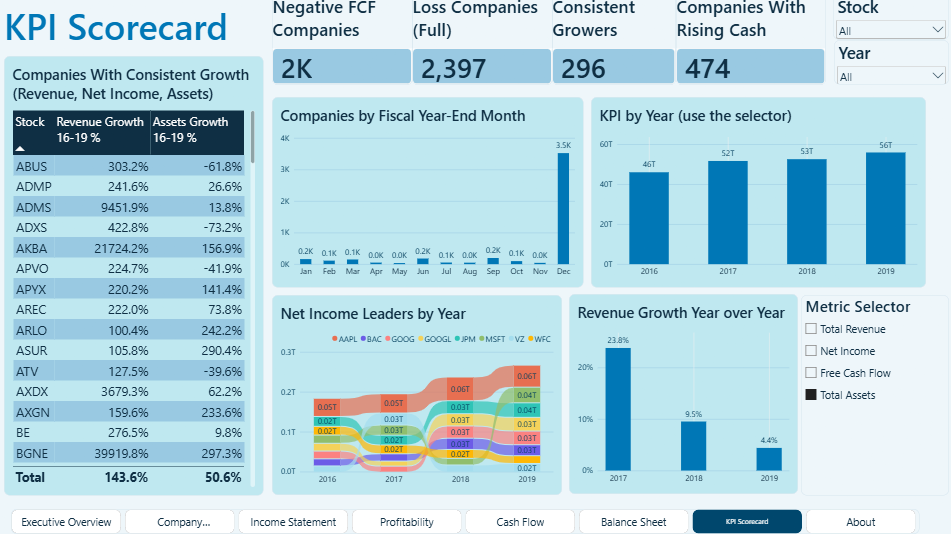

Layout of this report page (visuals, bound fields, positions):
{"tool":"powerbi","page":{"name":"KPI Scorecard","canvas":[1920,1080],"ordinal":6},"visuals":[{"type":"textbox","box":[15.5,13.5,487.7,110.3],"z":0},{"type":"slicer","fields":{"Values":["Dim_Date.Year"]},"box":[1676.1,92.9,230.3,89],"z":1000},{"type":"slicer","fields":{"Values":["Dim_Company.stock"]},"box":[1674.2,0,232.3,91],"z":2000},{"type":"tableEx","title":"Companies With Consistent Growth (Revenue, Net Income, Assets)","fields":{"Values":["Dim_Company.Stock","_Measures.Revenue Growth 16-19 %","_Measures.Assets Growth 16-19 %"]},"box":[15.5,123.9,518.7,878.7],"z":3000},{"type":"cardVisual","title":"Loss Companies (Full)","fields":{"Data":["_Measures.Loss Companies (Full)"]},"box":[832.3,0,280.6,181.9],"z":9000},{"type":"cardVisual","title":"Negative FCF Companies","fields":{"Data":["_Measures.Negative FCF Companies"]},"box":[551.9,0,280.5,181.7],"z":10000},{"type":"cardVisual","title":"Companies With Rising Cash","fields":{"Data":["_Measures.Companies With Rising Cash"]},"box":[1360.6,0,300,181.9],"z":11000},{"type":"cardVisual","title":"Consistent Growers","fields":{"Data":["_Measures.Consistent Growers"]},"box":[1112.9,0,247.7,181.9],"z":12000},{"type":"slicer","fields":{"Values":["Metric Selector.Metric Selector"]},"box":[1610.3,601.9,296.1,400.6],"z":12001},{"type":"clusteredColumnChart","title":"KPI by Year (use the selector)","fields":{"Category":["Dim_Date.Year"],"Y":["_Measures.Total Assets"]},"box":[1190.3,205.2,669.7,381.3],"z":12002},{"type":"clusteredColumnChart","title":"Revenue Growth Year over Year","fields":{"Category":["Dim_Date.Year"],"Y":["_Measures.Revenue YoY %"]},"box":[1145.8,600,457.6,400.1],"z":12003},{"type":"ribbonChart","title":"Net Income Leaders by Year","fields":{"Category":["Dim_Date.Year"],"Series":["Dim_Company.Stock"],"Y":["_Measures.Net Income"]},"box":[551.6,601.9,580.1,400.3],"z":12004},{"type":"clusteredColumnChart","title":"Companies by Fiscal Year-End Month","fields":{"Category":["Dim_Date.Month"],"Y":["_Measures.Company Count"]},"box":[551.6,205.2,623.2,381.3],"z":12005},{"type":"pageNavigator","box":[29,1029.7,1817.4,50.3],"z":12006}]}

Visuals, with their boxes in screenshot pixels (x1, y1, x2, y2), scaled from the page's 1920x1080 canvas onto the 951x534 screenshot:
textbox: (left=8, top=7, right=249, bottom=61)
slicer - Dim_Date.Year: (left=830, top=46, right=944, bottom=90)
slicer - Dim_Company.stock: (left=829, top=0, right=944, bottom=45)
"Companies With Consistent Growth (Revenue, Net Income, Assets)" tableEx: (left=8, top=61, right=265, bottom=496)
"Loss Companies (Full)" cardVisual: (left=412, top=0, right=551, bottom=90)
"Negative FCF Companies" cardVisual: (left=273, top=0, right=412, bottom=90)
"Companies With Rising Cash" cardVisual: (left=674, top=0, right=823, bottom=90)
"Consistent Growers" cardVisual: (left=551, top=0, right=674, bottom=90)
slicer - Metric Selector.Metric Selector: (left=798, top=298, right=944, bottom=496)
"KPI by Year (use the selector)" clusteredColumnChart: (left=590, top=101, right=921, bottom=290)
"Revenue Growth Year over Year" clusteredColumnChart: (left=568, top=297, right=794, bottom=494)
"Net Income Leaders by Year" ribbonChart: (left=273, top=298, right=561, bottom=496)
"Companies by Fiscal Year-End Month" clusteredColumnChart: (left=273, top=101, right=582, bottom=290)
pageNavigator: (left=14, top=509, right=915, bottom=533)
